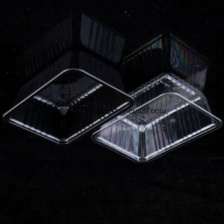plastic_box: (0, 42, 139, 150), (84, 66, 223, 169)
